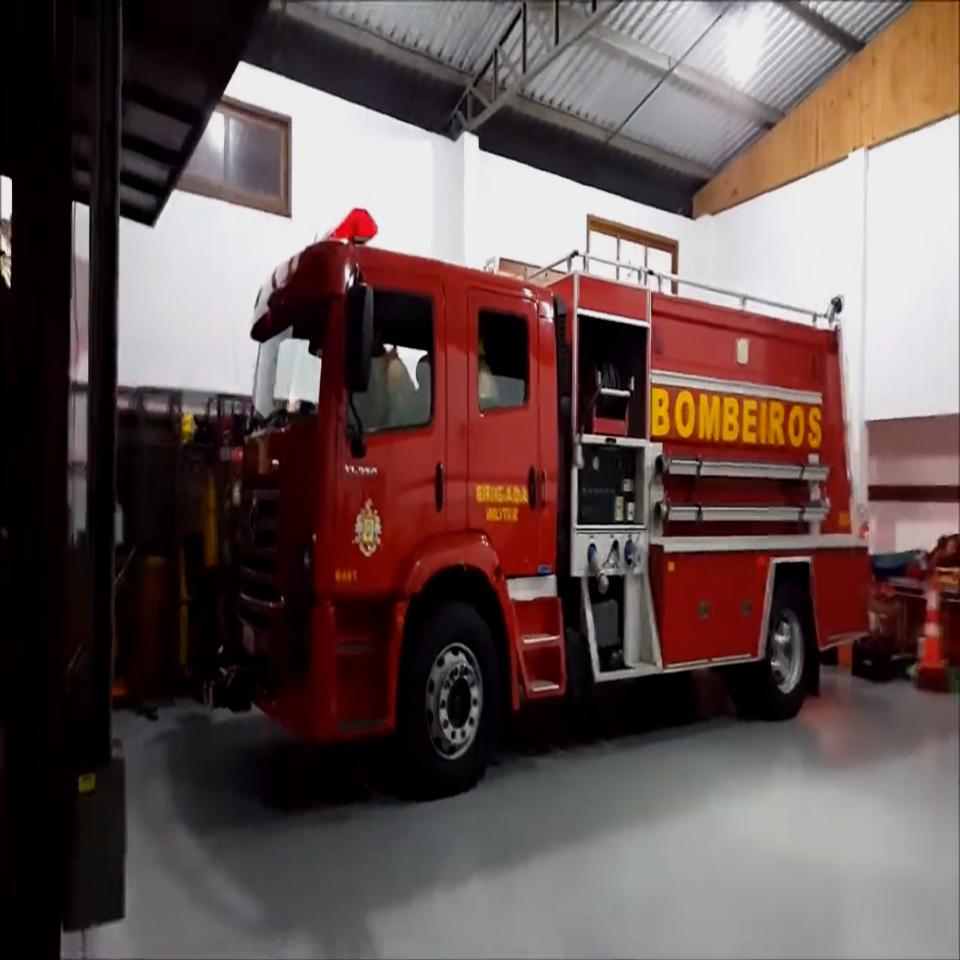bombeiro: (208, 208, 875, 806)
